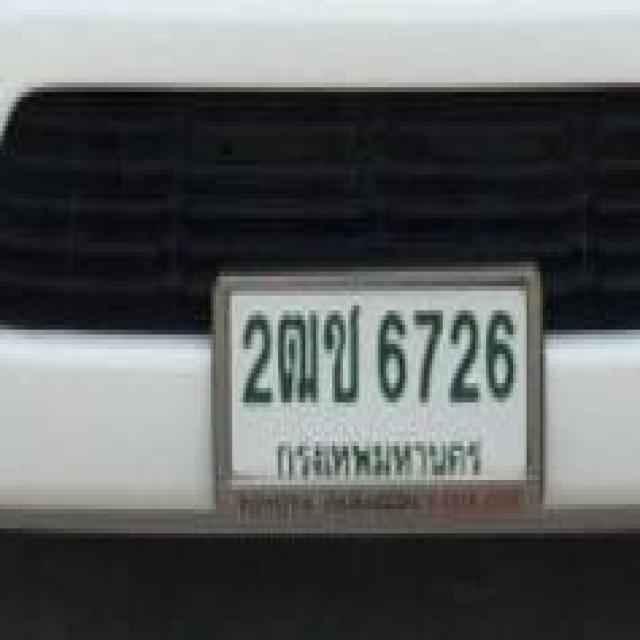plate: (222, 280, 536, 486)
